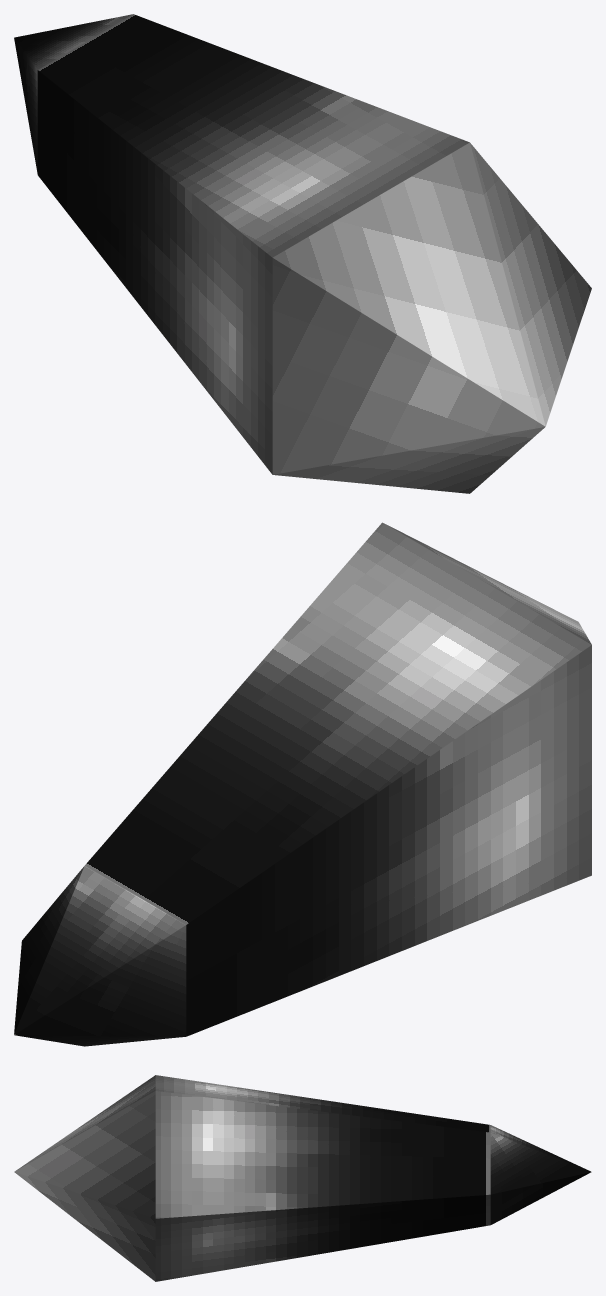
File: Crystal.glb
The picture shows the model from 3 angles, top to bottom: view 1: azimuth 30°, elevation 25°; view 2: azimuth 150°, elevation 25°; view 3: azimuth 270°, elevation 25°; orthographic projection. The views are drawn at different scales.
Parts seen in each view (by area): view 1: model_Crystal; view 2: model_Crystal; view 3: model_Crystal.
Boxes of the visible parts, bbox=[...] form: model_Crystal: bbox=[14, 14, 591, 493]; model_Crystal: bbox=[14, 522, 591, 1046]; model_Crystal: bbox=[14, 1075, 591, 1281].
Bounding box in the file's own units: 0.2056 × 0.2161 × 0.5927.
1 material, 1 textured.
